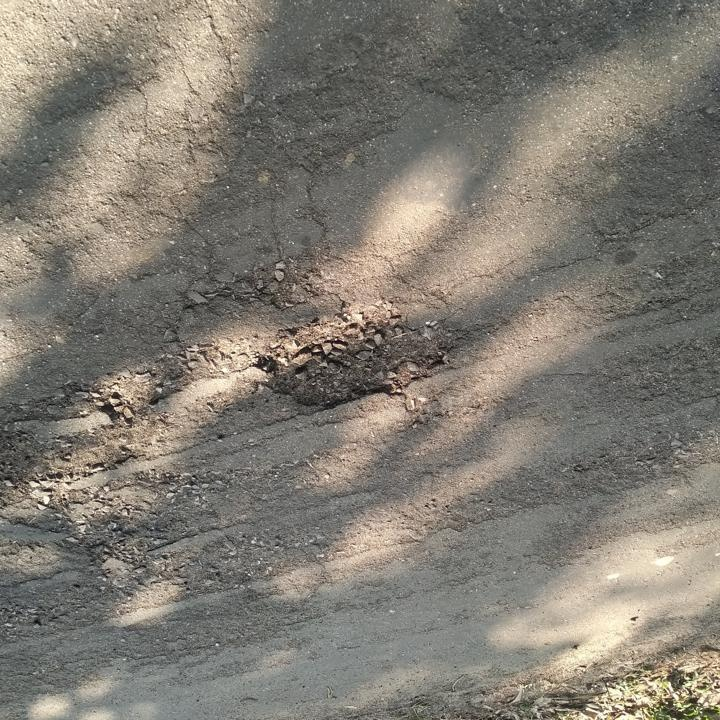pothole: (255, 309, 461, 415)
